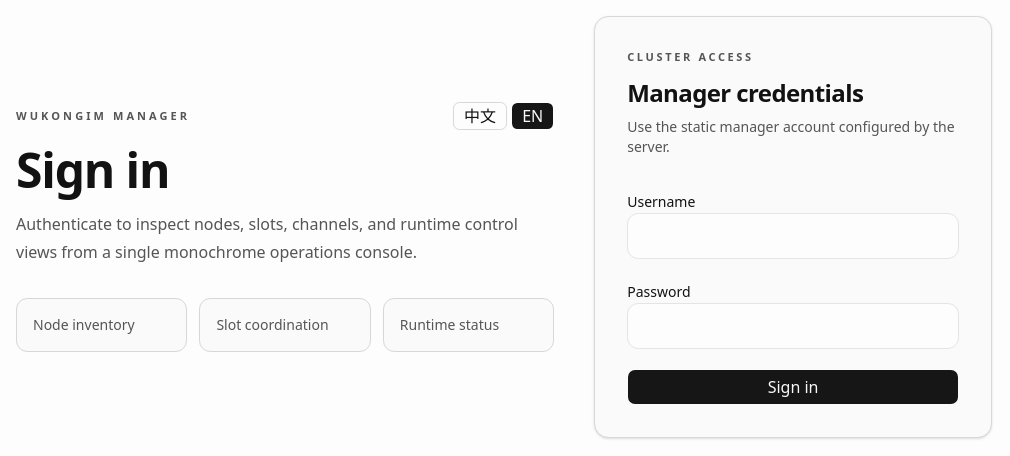
Test case: switches the login page copy without navigating away
Expected: the heading "Sign in" is shown, [16,137,169,202]
Click the button "中文" at (480, 116), box [453,102,507,130]
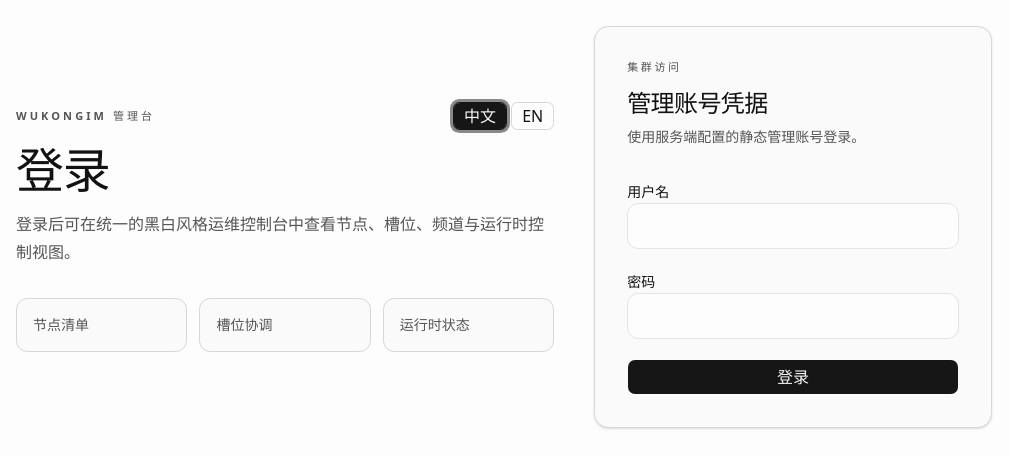
Now the heading "登录" is shown, box [16,137,110,202]
